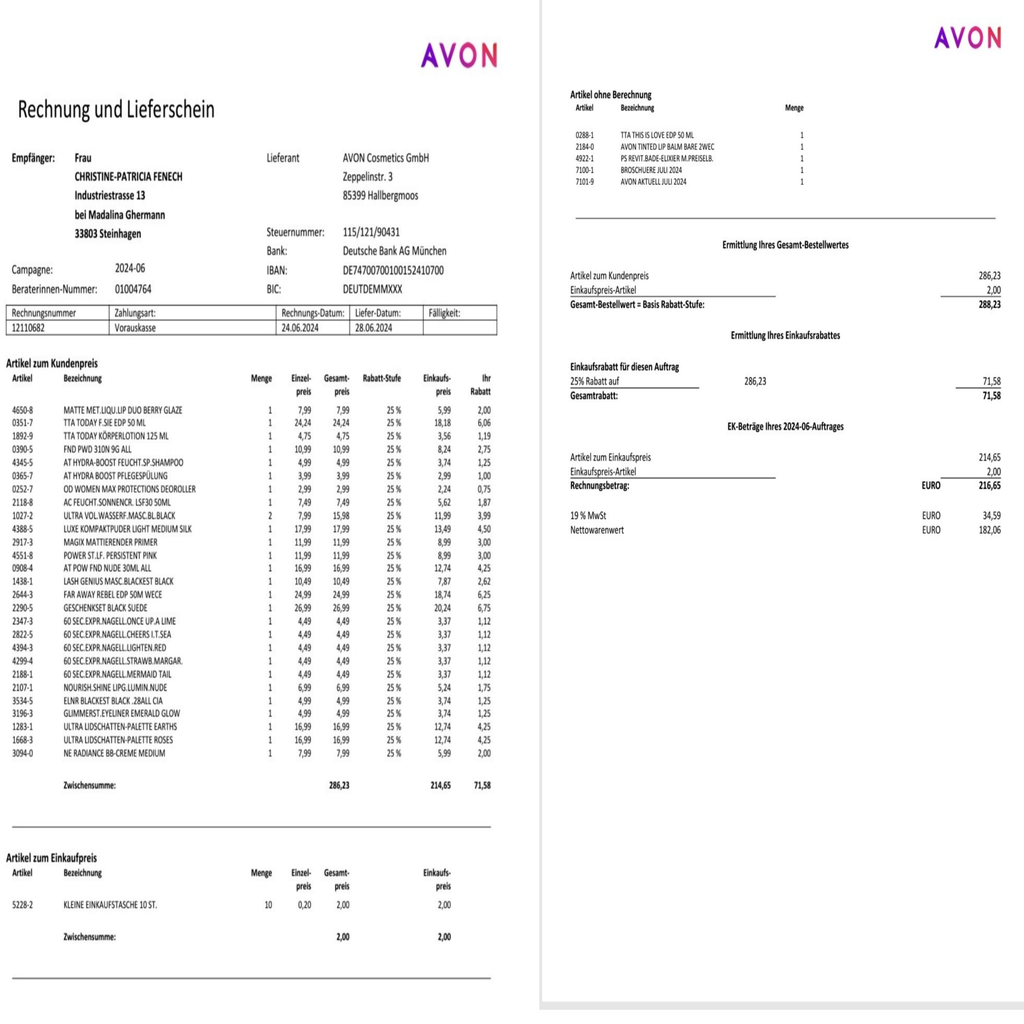recipt: (6, 6, 1022, 1018)
